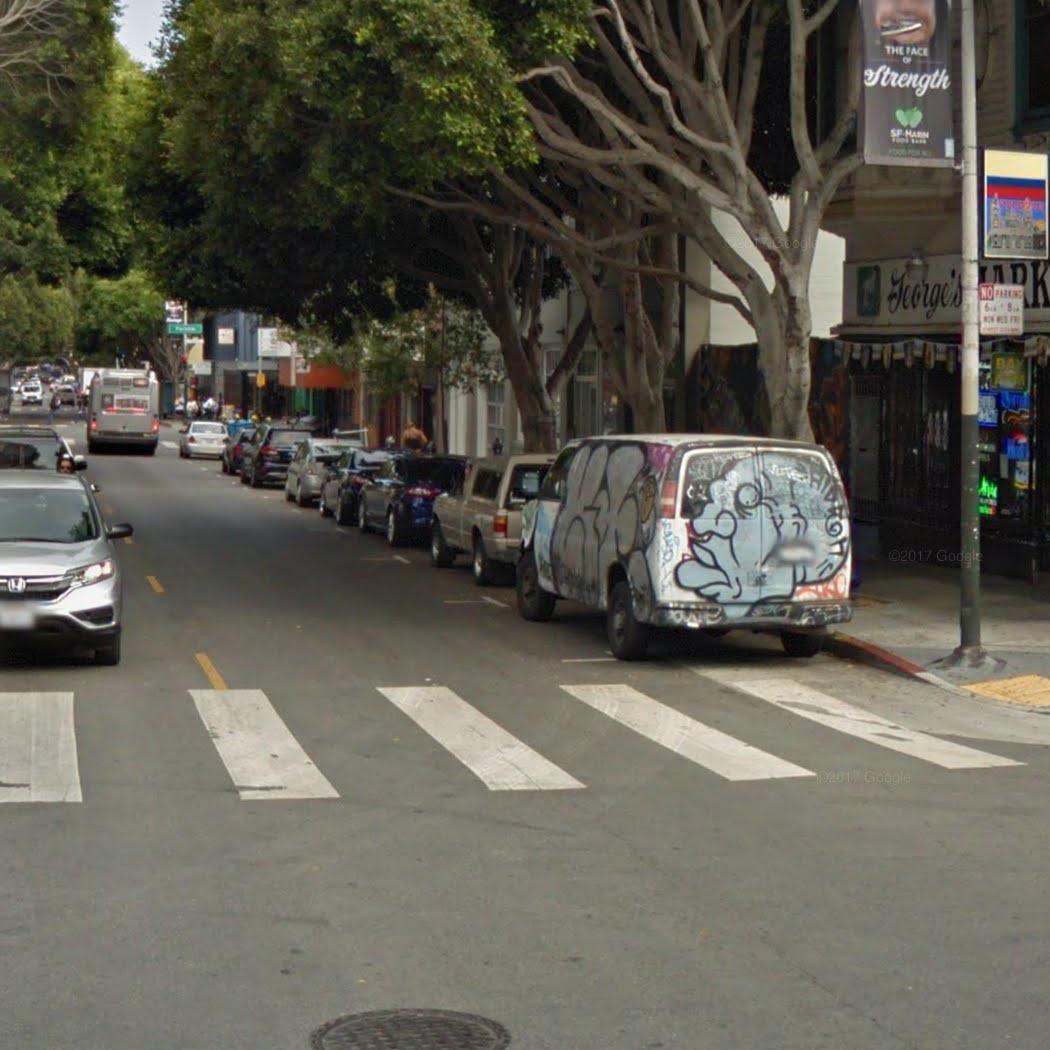No Parking: (975, 282, 1025, 338)
